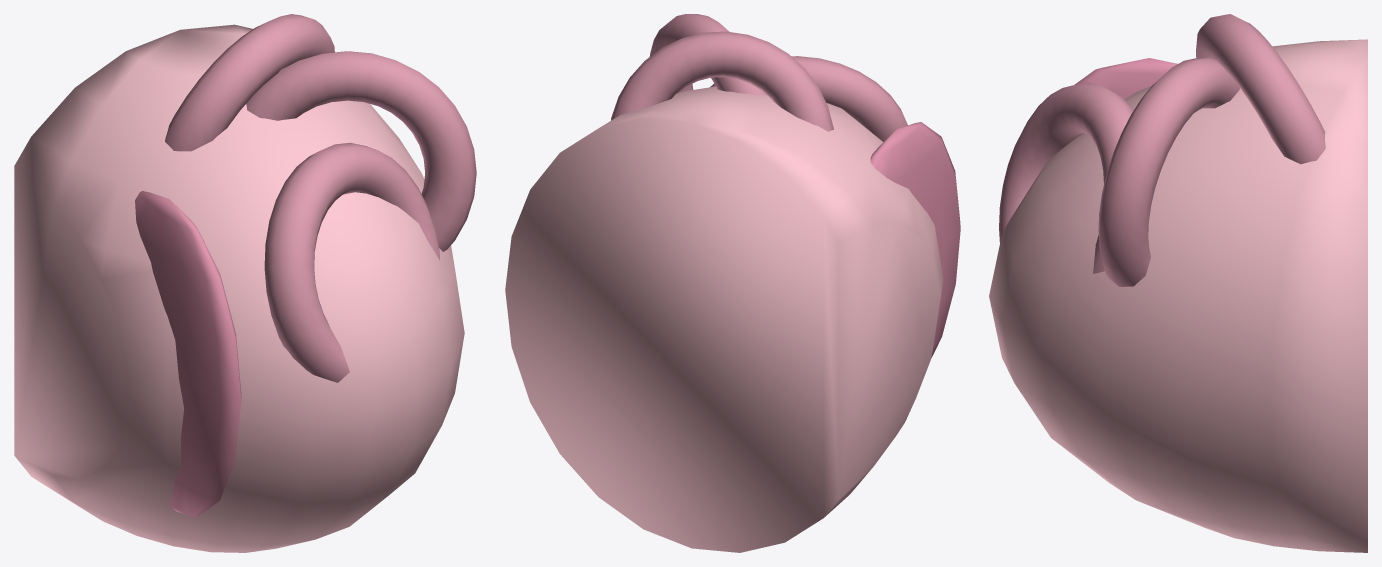
File: chunk44.glb
3 renders of one model, left to right at view 1: azimuth 30°, elevation 25°; view 2: azimuth 150°, elevation 25°; view 3: azimuth 270°, elevation 25°, orthographic. The views are drawn at different scales.
Parts seen in each view (by area): view 1: brain, fold, flesh; view 2: brain, fold, flesh; view 3: brain, fold, flesh.
Boxes of the visible parts, x1,y1,x2,y2 form: brain: (14, 24, 464, 552); fold: (165, 14, 476, 382); flesh: (135, 191, 241, 517); brain: (505, 86, 943, 552); fold: (611, 14, 907, 141); flesh: (870, 122, 960, 357); brain: (989, 39, 1367, 552); fold: (999, 14, 1325, 286); flesh: (1074, 58, 1177, 98).
Bounding box in the file's own units: 0.9145 × 1.22 × 0.806.
